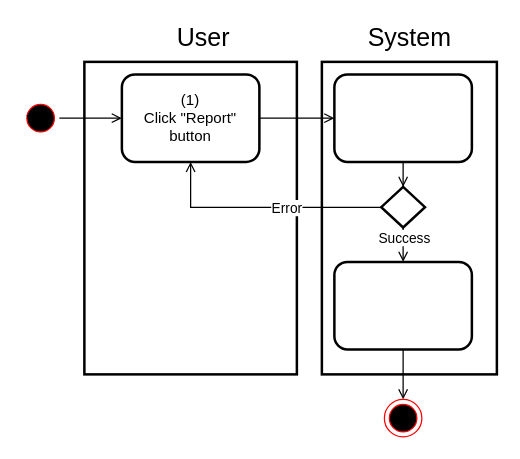
This 520x459 diagram has some shape labels left out. The shapes that lost their labels are listed below. From the top down, each one's centre as x and y in pixels, then its label:
At point 402,117: "(2) Save to database".
At point 402,305: "(3) Display Report list".
